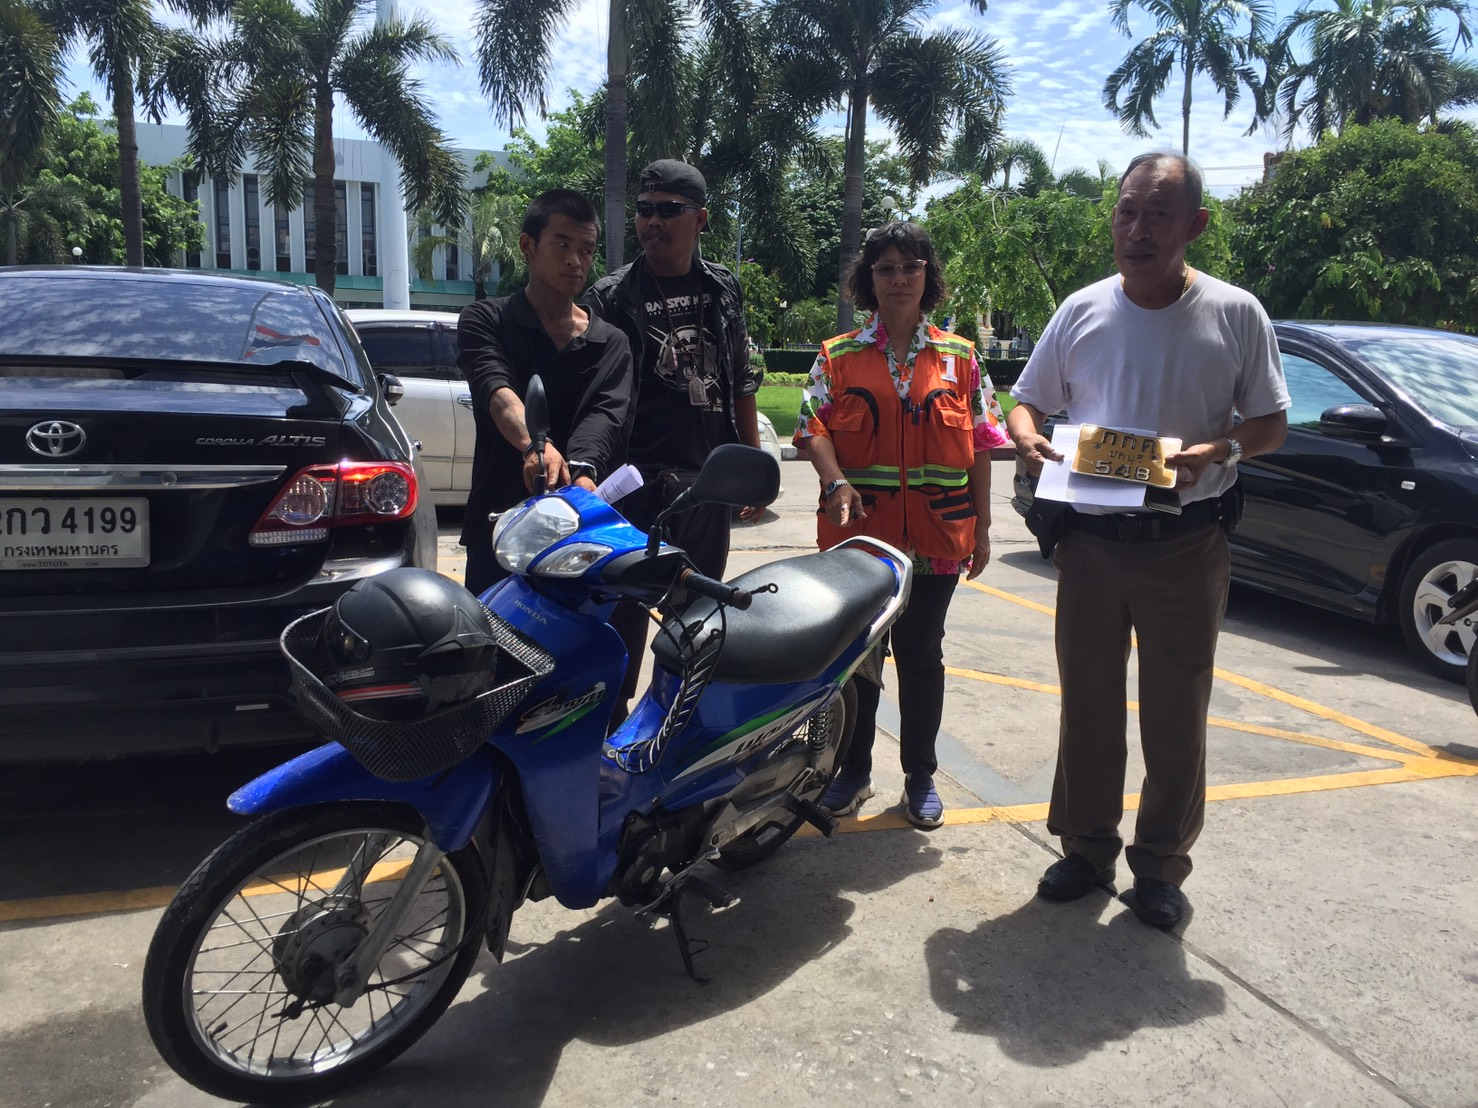motorcycle: (85, 374, 938, 1105)
